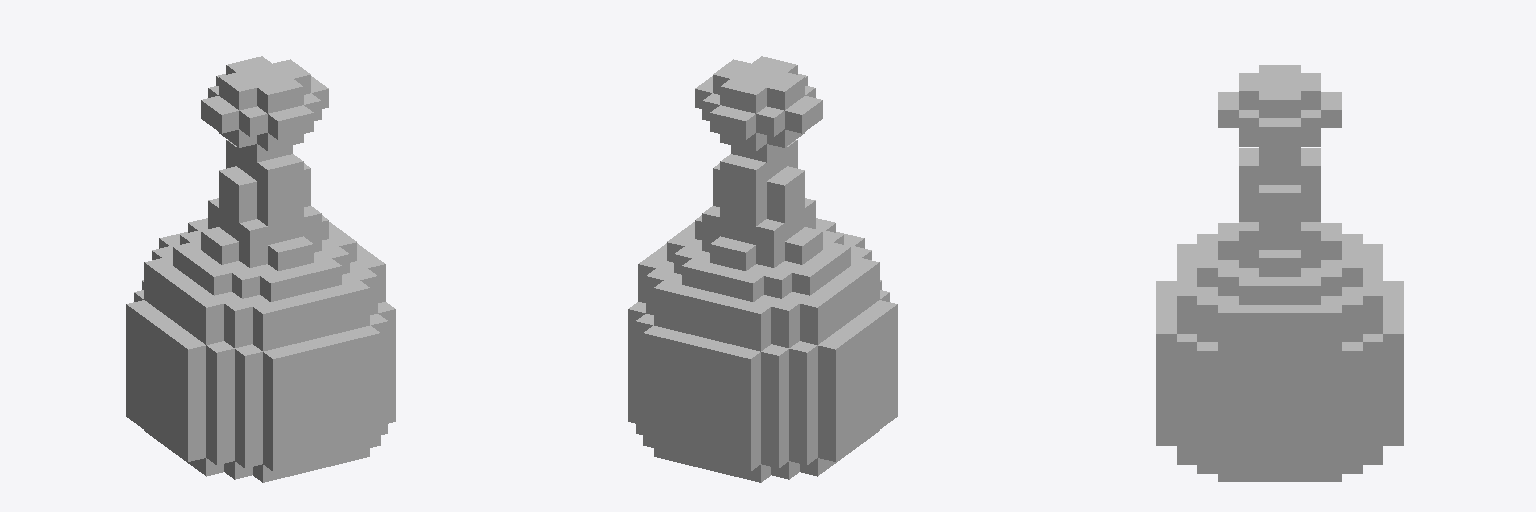
Rendered from Bottle.obj.
3 views of the same model, side by side, from view 1: azimuth 30°, elevation 25°; view 2: azimuth 150°, elevation 25°; view 3: azimuth 270°, elevation 25° (orthographic).
Visible parts, largest first — view 1: object 1; view 2: object 1; view 3: object 1.
Part boxes in pixels (left/top/right/bottom): object 1: left=126, top=56, right=395, bottom=482; object 1: left=628, top=56, right=897, bottom=482; object 1: left=1156, top=65, right=1403, bottom=481.
Bounding box in the file's own units: 1.1 × 1.9 × 1.2.